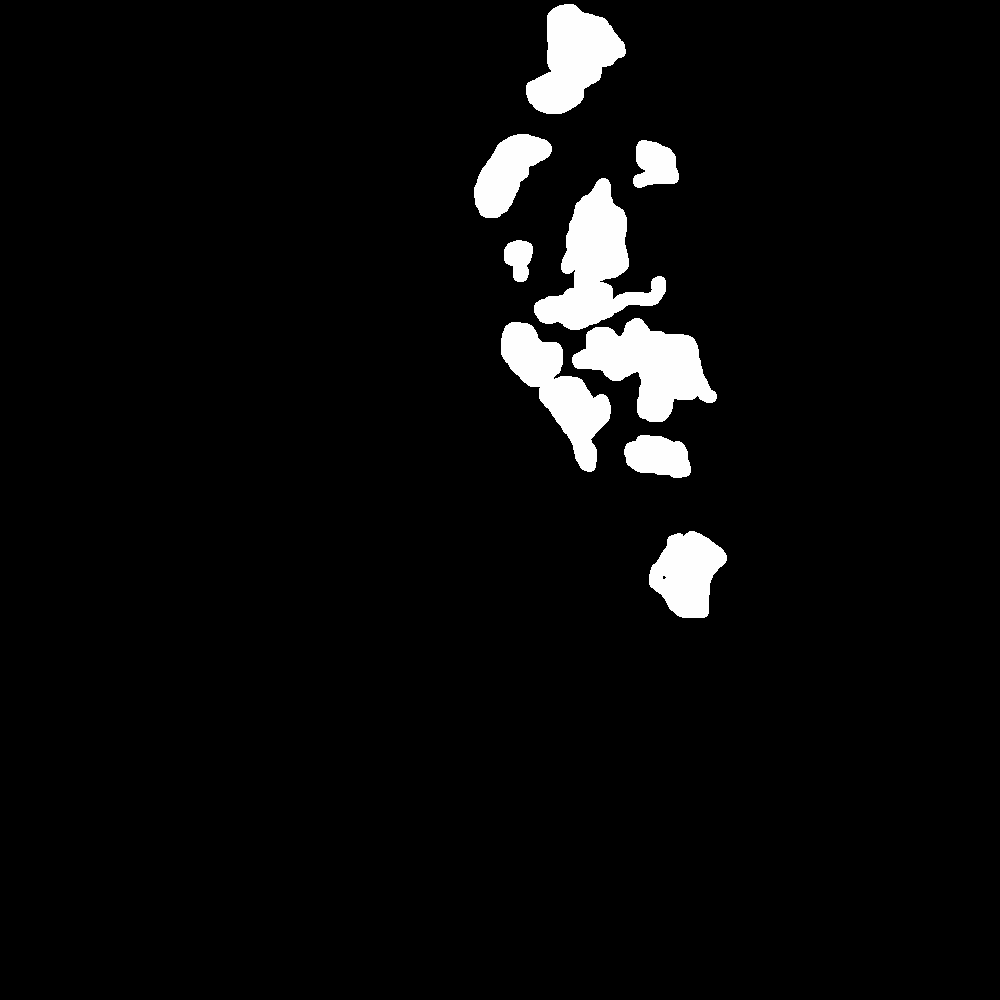illegal: (470, 133, 718, 475), (527, 7, 623, 116), (644, 529, 723, 618)
